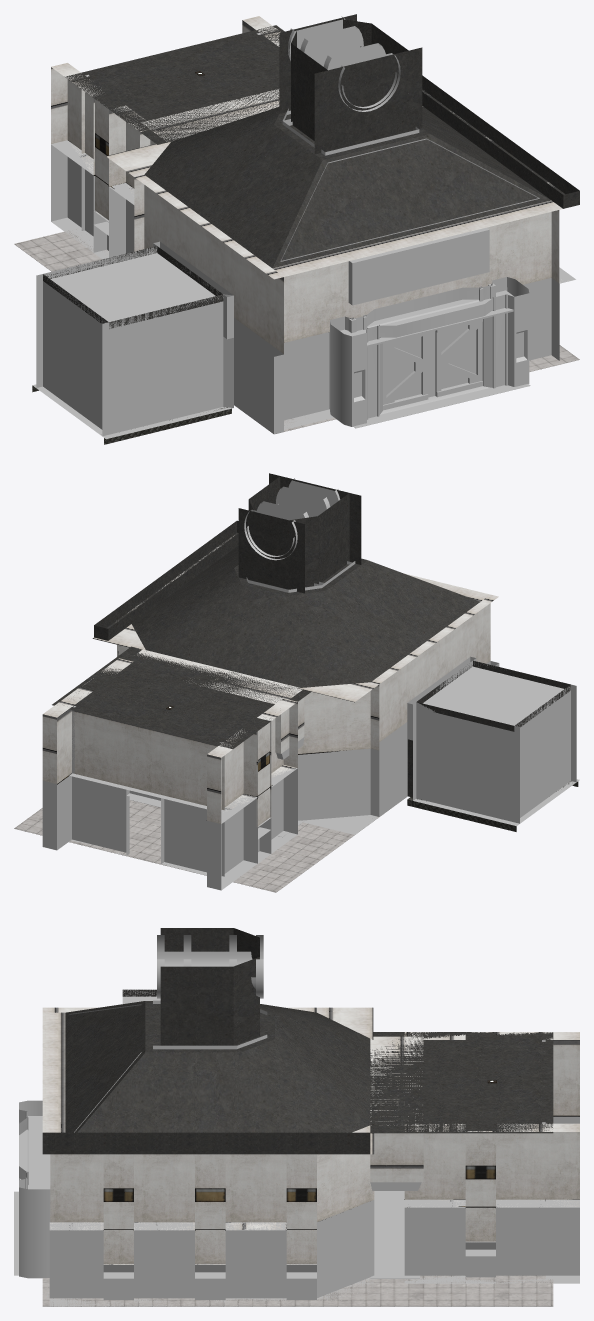
File: gateaentrance_opt.fbx
The picture shows the model from 3 angles, top to bottom: view 1: azimuth 30°, elevation 25°; view 2: azimuth 150°, elevation 25°; view 3: azimuth 270°, elevation 25°; orthographic projection. The views are drawn at different scales.
Visible parts, largest first — view 1: Scene_Root.003; view 2: Scene_Root.003; view 3: Scene_Root.003.
Part boxes in pixels (x1,y1,x2,y2): Scene_Root.003: [14, 14, 579, 444]; Scene_Root.003: [14, 473, 579, 892]; Scene_Root.003: [14, 928, 579, 1306].
Bounding box in the file's own units: 1508 × 986 × 1723.
